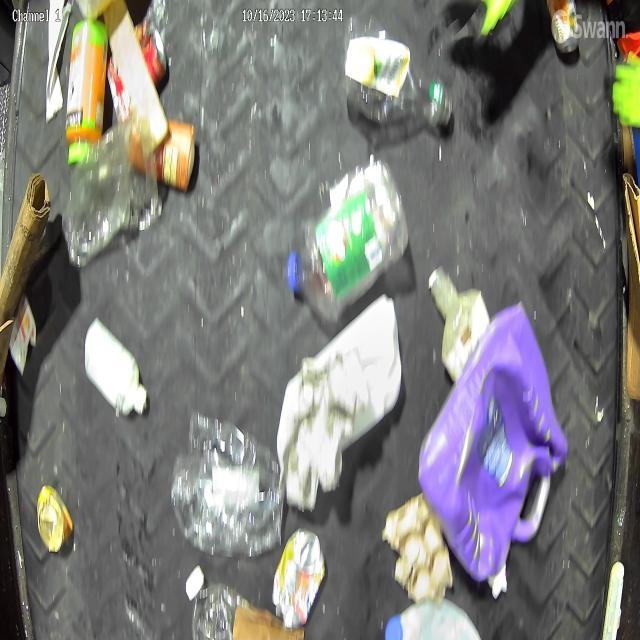can: (270, 528, 326, 632), (136, 114, 198, 198), (32, 482, 74, 558)
milk_jug: (382, 593, 484, 640)
non_white_jug: (414, 294, 567, 599)
plastic_bottle: (286, 160, 404, 324), (182, 566, 255, 640)
